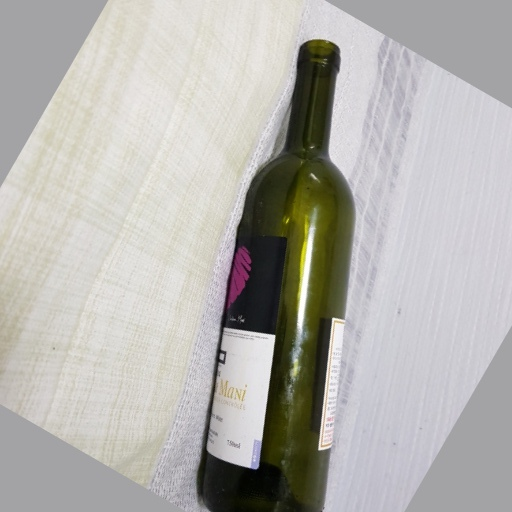Glass_2: (194, 36, 362, 512)
